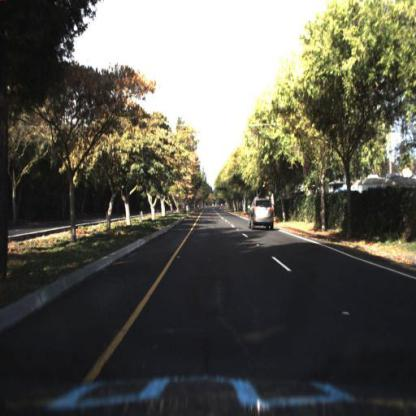car: (248, 197, 277, 229)
